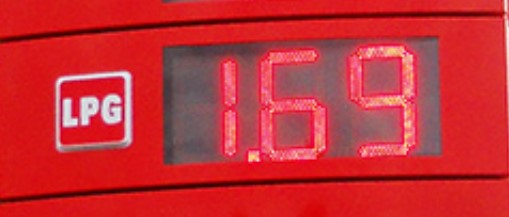digits: (343, 42, 420, 158), (254, 46, 330, 163), (189, 50, 244, 162)
